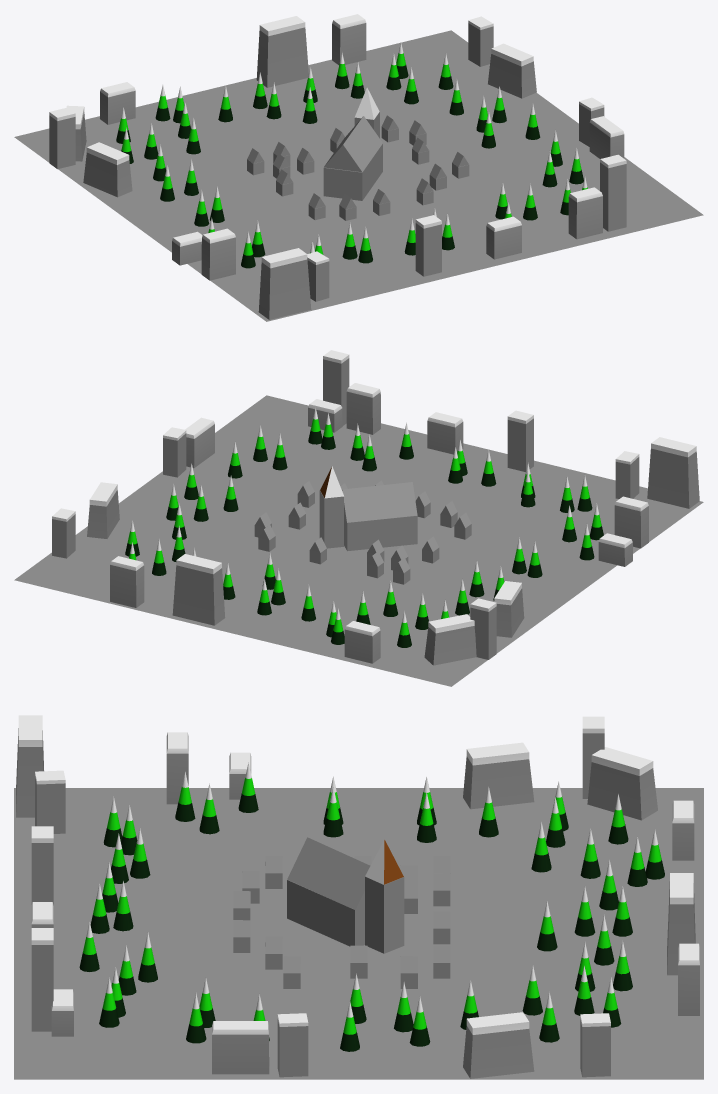
The model's file is vilagemontagne_papier.FBX.
3 renders of one model, top to bottom at view 1: azimuth 30°, elevation 25°; view 2: azimuth 150°, elevation 25°; view 3: azimuth 270°, elevation 25°, orthographic. The views are drawn at different scales.
Visible parts, largest first — view 1: Plane010, Box142, Box136, Box130, Box134, Box131, Prism035, Box145, Box128, Box140, Box135, Box143 (+9 smaller); view 2: Plane010, Box136, Box142, Prism035, Box138, Box145, Box135, Box128, Box143, Box134, Box140, Box131 (+11 smaller); view 3: Plane010, Box134, Box130, Box138, Prism035, Box127, Box145, Box146, Box142, Box131, Box136, Box132 (+41 smaller).
Boxes of the visible parts, bbox=[...] form: Plane010: bbox=[14, 30, 703, 321]; Box142: bbox=[258, 248, 311, 319]; Box136: bbox=[256, 16, 308, 87]; Box130: bbox=[83, 142, 132, 197]; Box134: bbox=[488, 43, 536, 98]; Box131: bbox=[600, 154, 626, 231]; Prism035: bbox=[324, 116, 382, 172]; Box145: bbox=[323, 143, 382, 200]; Box128: bbox=[568, 187, 602, 239]; Box140: bbox=[201, 228, 235, 280]; Box135: bbox=[332, 14, 366, 65]; Box143: bbox=[415, 215, 441, 276]; Plane010: bbox=[14, 395, 703, 686]; Box136: bbox=[172, 554, 225, 625]; Box142: bbox=[647, 437, 699, 508]; Prism035: bbox=[342, 482, 417, 522]; Box138: bbox=[424, 614, 476, 665]; Box145: bbox=[344, 515, 417, 551]; Box135: bbox=[110, 556, 144, 607]; Box128: bbox=[346, 383, 380, 434]; Box143: bbox=[507, 410, 533, 472]; Box134: bbox=[87, 482, 119, 538]; Box140: bbox=[614, 496, 648, 548]; Box131: bbox=[323, 350, 349, 425]; Plane010: bbox=[14, 788, 703, 1079]; Box134: bbox=[463, 1012, 534, 1078]; Box130: bbox=[463, 742, 534, 809]; Box138: bbox=[587, 747, 657, 820]; Prism035: bbox=[287, 837, 370, 910]; Box127: bbox=[212, 1021, 269, 1074]; Box145: bbox=[287, 879, 364, 946]; Box146: bbox=[365, 876, 404, 953]; Box142: bbox=[16, 715, 43, 817]; Box131: bbox=[31, 928, 53, 1031]; Box136: bbox=[667, 873, 695, 975]; Box132: bbox=[277, 1013, 308, 1077].
Size of the model in its own units: 801 by 135 by 787.
